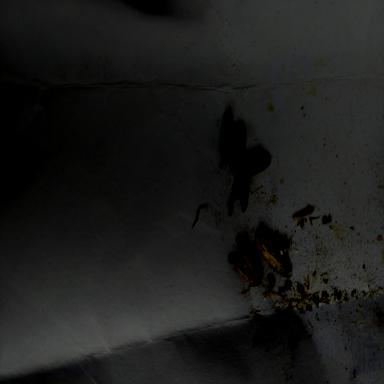pbw: (256, 234, 292, 279), (227, 242, 261, 288), (228, 168, 250, 216), (232, 152, 272, 176), (225, 124, 246, 166), (221, 110, 233, 150)
